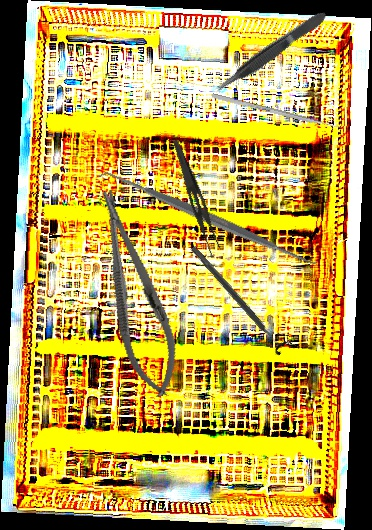Dressing Forceps: (160, 139, 228, 259)
Fixation Ring: (185, 240, 293, 357)
Needle Holder: (82, 183, 190, 403)
Pusher: (211, 93, 349, 132)
Spatula Surgical: (95, 158, 321, 278)
Tissue Forceps: (210, 8, 331, 98)
